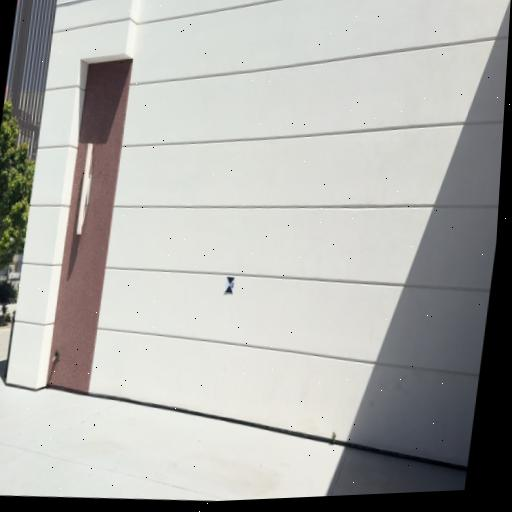target0: (223, 276, 235, 295)
